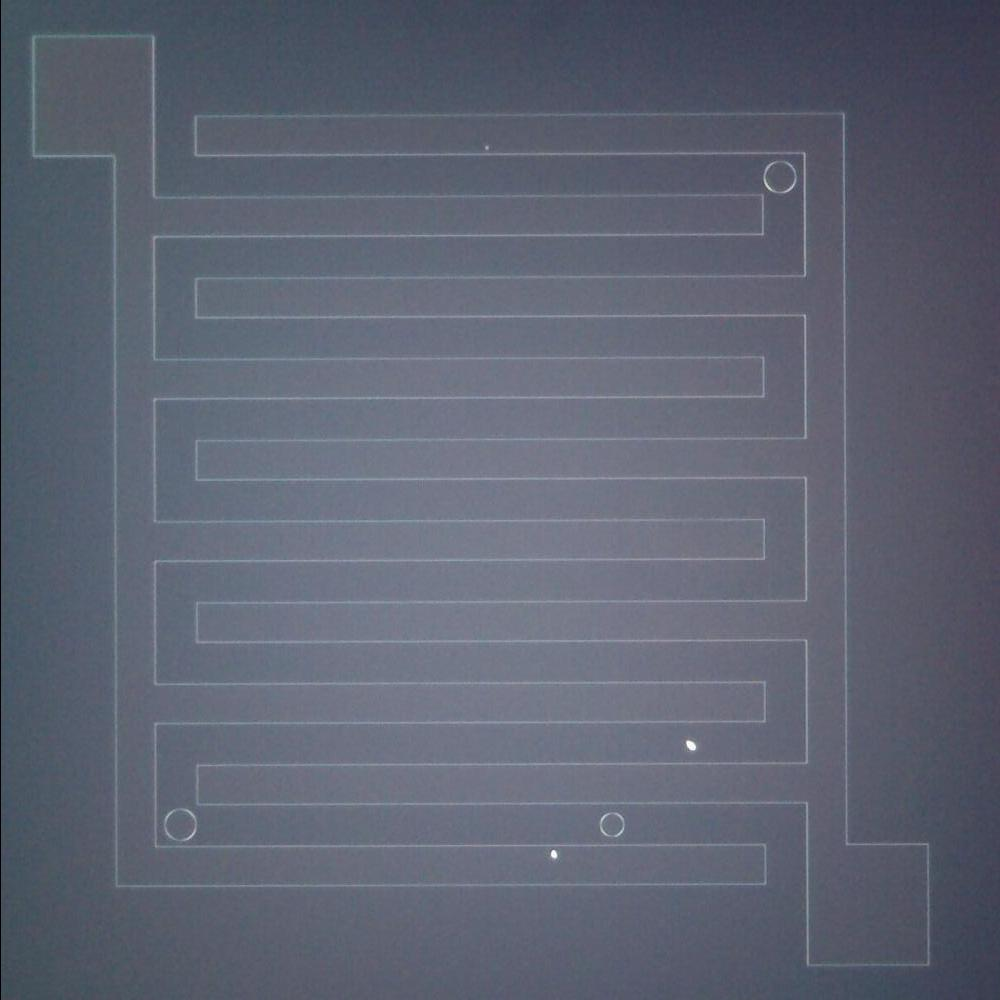circle: (755, 152, 802, 199), (160, 801, 199, 845), (592, 804, 628, 841)
spot: (544, 843, 566, 865), (678, 734, 701, 755)
